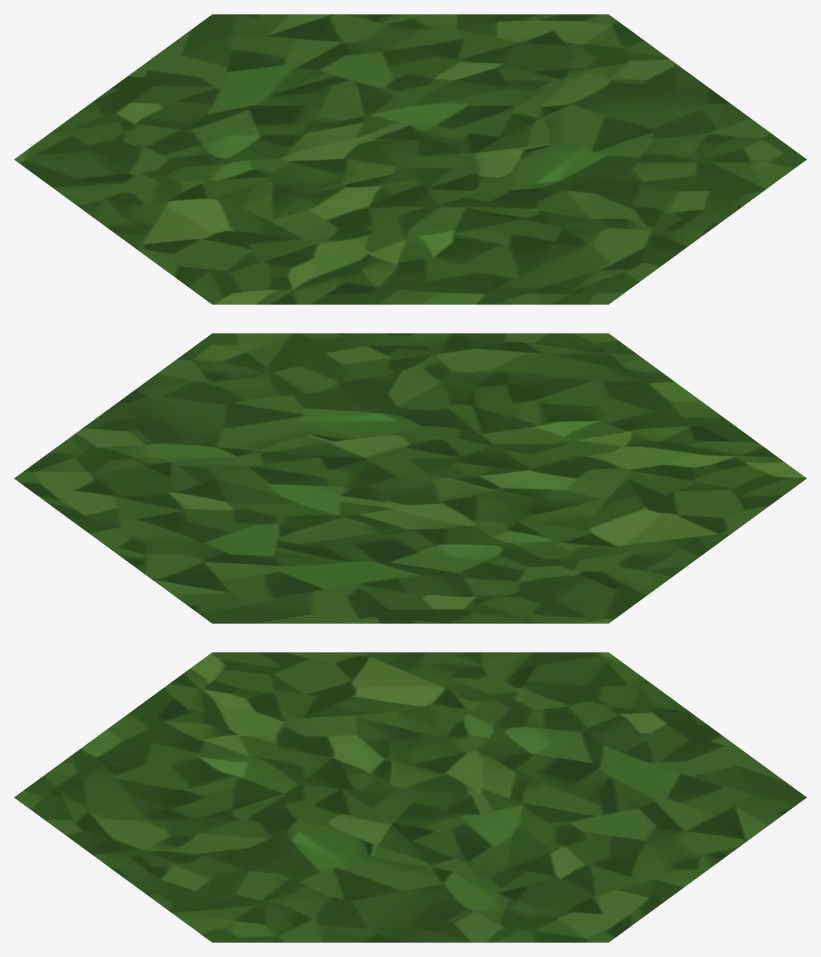
Rendered from grass.glb.
3 renders of one model, top to bottom at view 1: azimuth 30°, elevation 25°; view 2: azimuth 150°, elevation 25°; view 3: azimuth 270°, elevation 25°, orthographic.
Parts seen in each view (by area): view 1: base; view 2: base; view 3: base.
Boxes of the visible parts, <box> form: base: <box>14,14,806,304</box>; base: <box>14,333,806,623</box>; base: <box>14,652,806,942</box>.
Bounding box in the file's own units: 1.73 × 0 × 2.
1 material, 1 textured.
